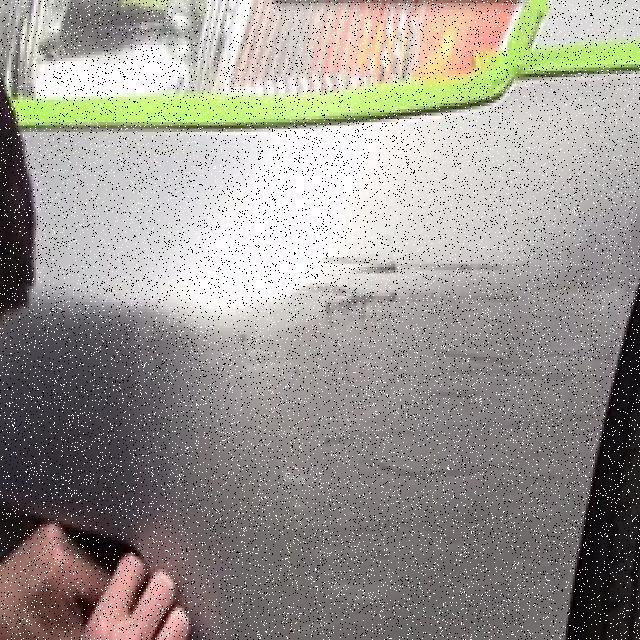front-bumper-dent: (9, 122, 638, 637)
